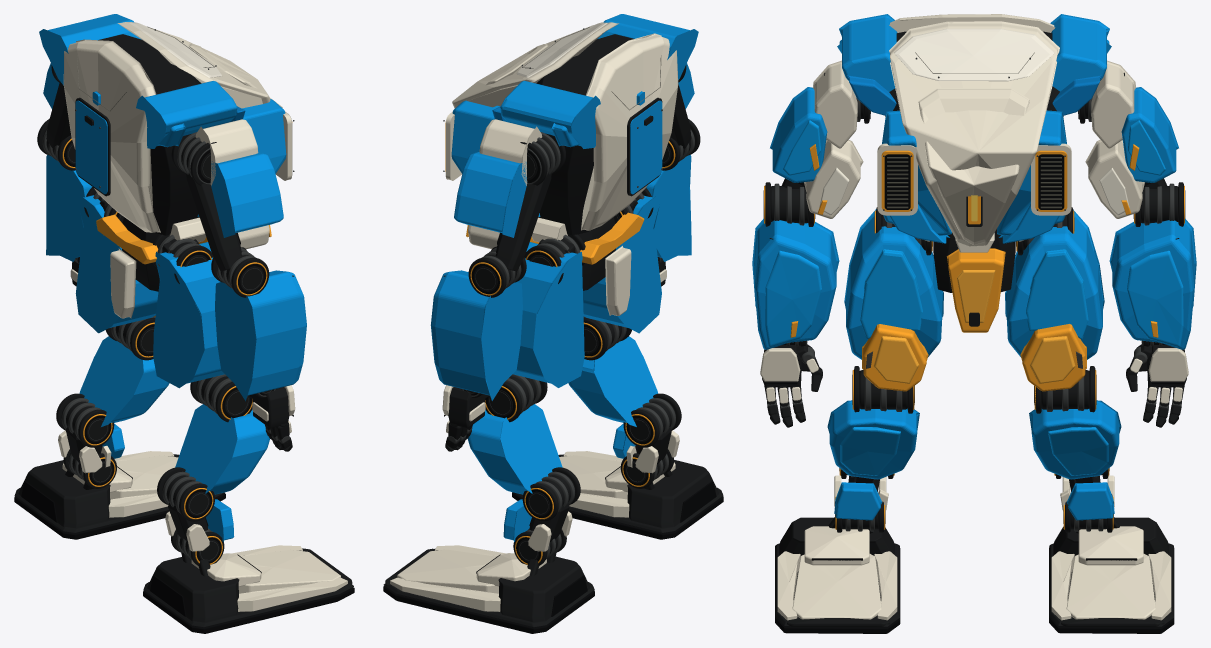
File: appearance_c.glb
3 renders of one model, left to right at view 1: azimuth 30°, elevation 25°; view 2: azimuth 150°, elevation 25°; view 3: azimuth 270°, elevation 25°, orthographic. The views are drawn at different scales.
Parts seen in each view (by area): view 1: ivory_back_carapace, right_blue_forearm_outer, right_blue_thigh_armor, right_blue_middle_shank, dark_torso_inner_layer, left_blue_thigh_armor, left_blue_middle_shank, right_blue_deltoid_outer, right_blue_shoulder_swept_top, left_blue_forearm_outer, left_black_stepped_heel, right_black_stepped_heel (+33 smaller); view 2: ivory_back_carapace, left_blue_forearm_outer, left_blue_thigh_armor, left_blue_middle_shank, dark_torso_inner_layer, right_blue_middle_shank, left_blue_deltoid_outer, right_blue_thigh_armor, left_blue_shoulder_swept_top, right_blue_forearm_outer, right_black_stepped_heel, left_black_stepped_heel (+32 smaller); view 3: ivory_continuous_front_carapace, ivory_long_shield_face, ivory_crown_top_lip, left_blue_thigh_armor, right_blue_thigh_armor, left_blue_forearm_outer, right_blue_forearm_outer, right_ivory_toe_dorsal, left_ivory_toe_dorsal, left_blue_forearm_long_plane, right_blue_forearm_long_plane, left_blue_thigh_front_facet (+59 smaller).
Part boxes in pixels (<box>): ivory_back_carapace: <box>63,39,160,232</box>; right_blue_forearm_outer: <box>215,270,306,401</box>; right_blue_thigh_armor: <box>153,242,224,388</box>; right_blue_middle_shank: <box>175,404,269,494</box>; dark_torso_inner_layer: <box>98,34,201,235</box>; left_blue_thigh_armor: <box>75,195,158,333</box>; left_blue_middle_shank: <box>79,336,169,426</box>; right_blue_deltoid_outer: <box>211,152,283,237</box>; right_blue_shoulder_swept_top: <box>136,81,237,148</box>; left_blue_forearm_outer: <box>46,155,92,261</box>; left_black_stepped_heel: <box>18,460,110,528</box>; right_black_stepped_heel: <box>147,557,239,622</box>; ivory_back_carapace: <box>581,33,678,230</box>; left_blue_forearm_outer: <box>430,270,522,400</box>; left_blue_thigh_armor: <box>513,242,584,387</box>; left_blue_middle_shank: <box>468,404,562,494</box>; dark_torso_inner_layer: <box>536,34,633,235</box>; right_blue_middle_shank: <box>568,336,657,426</box>; left_blue_deltoid_outer: <box>454,152,527,237</box>; right_blue_thigh_armor: <box>583,195,661,333</box>; left_blue_shoulder_swept_top: <box>500,80,600,148</box>; right_blue_forearm_outer: <box>646,155,691,261</box>; right_black_stepped_heel: <box>627,460,718,527</box>; left_black_stepped_heel: <box>498,556,590,621</box>; ivory_continuous_front_carapace: <box>889,21,1059,246</box>; ivory_long_shield_face: <box>918,88,1029,244</box>; ivory_crown_top_lip: <box>894,28,1054,81</box>; left_blue_thigh_armor: <box>1005,210,1104,359</box>; right_blue_thigh_armor: <box>844,209,943,359</box>; left_blue_forearm_outer: <box>1109,219,1196,349</box>; right_blue_forearm_outer: <box>752,219,839,349</box>; right_ivory_toe_dorsal: <box>792,554,881,619</box>; left_ivory_toe_dorsal: <box>1066,554,1155,619</box>; left_blue_forearm_long_plane: <box>1127,250,1183,347</box>; right_blue_forearm_long_plane: <box>765,250,821,347</box>; left_blue_thigh_front_facet: <box>1026,249,1088,339</box>.
Size of the model in its own units: 0.965 by 2.66 by 1.95.
